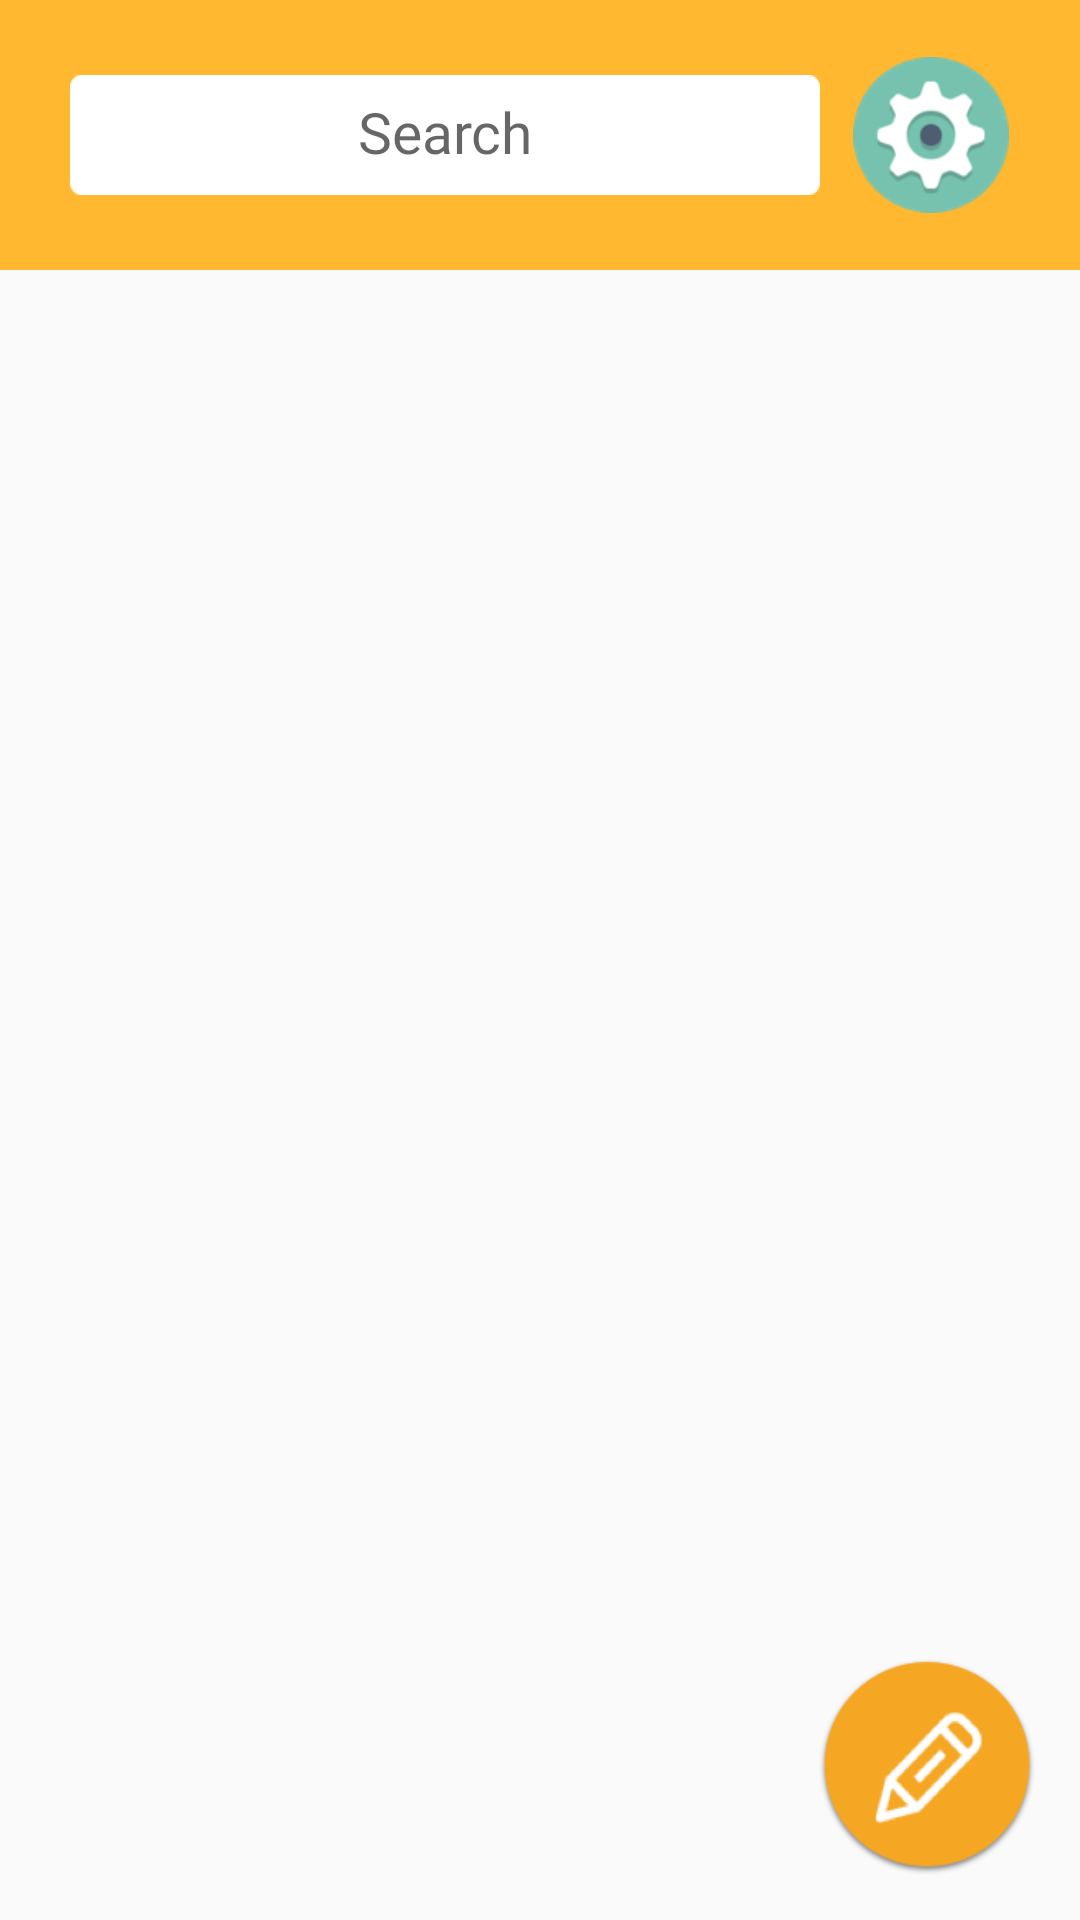

Where icons sit on this 1080px x 1920px app screen, as (x1, y1, x2, y2):
setting: (853, 57, 1009, 213)
